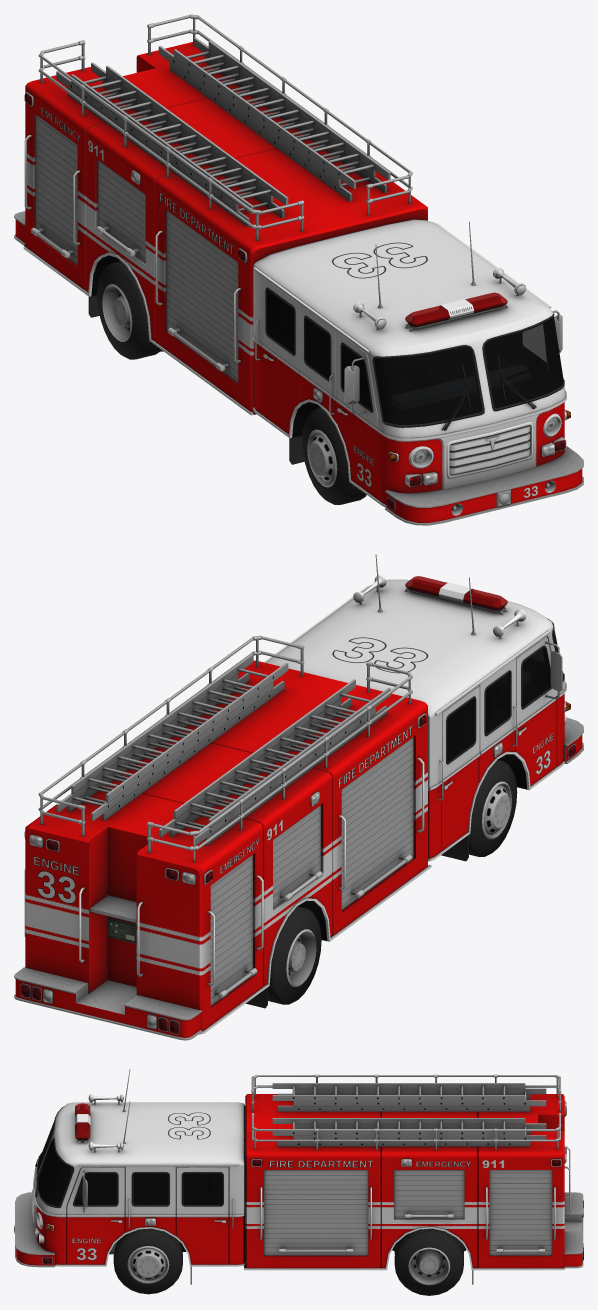
Rendered from fire.glb.
3 views of the same model, one above another, from view 1: azimuth 30°, elevation 25°; view 2: azimuth 150°, elevation 25°; view 3: azimuth 270°, elevation 25° (orthographic). The views are drawn at different scales.
Visible parts, largest first — view 1: Body (×4), Door skin and glass (×3), TyreRim (×2), Dashboard, Lamp head; view 2: Body (×4), TyreRim (×2), Door skin and glass (×2), Lamp brake; view 3: Body (×4), TyreRim (×2), Door skin and glass (×2).
Boxes of the visible parts, <box> form: Body (×4): <box>14,14,583,525</box>; Door skin and glass (×3): <box>339,311,562,492</box>; TyreRim (×2): <box>97,261,366,504</box>; Dashboard: <box>391,365,530,409</box>; Lamp head: <box>387,410,570,510</box>; Body (×4): <box>14,554,583,1040</box>; TyreRim (×2): <box>268,759,517,1004</box>; Door skin and glass (×2): <box>496,630,562,777</box>; Lamp brake: <box>21,984,178,1033</box>; Body (×4): <box>14,1069,583,1284</box>; TyreRim (×2): <box>113,1228,463,1295</box>; Door skin and glass (×2): <box>60,1166,119,1257</box>.
Bounding box in the file's own units: 2.48 × 2.81 × 8.
10 materials, 9 textured.
